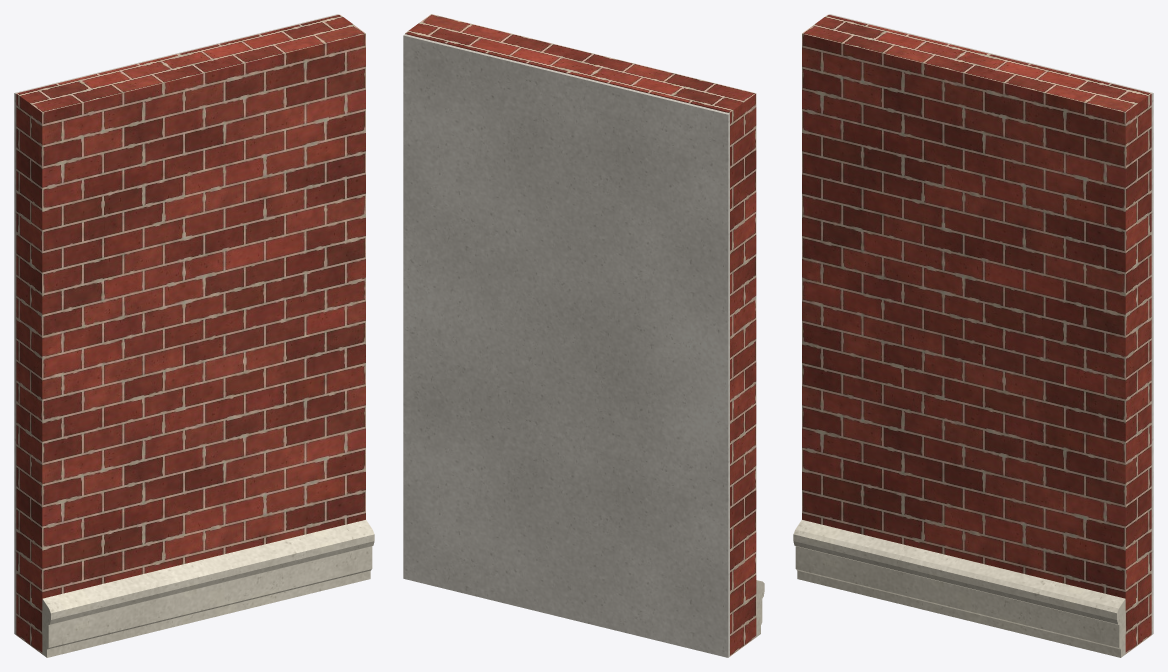
Rendered from o_u1_plain.glb.
The picture shows the model from 3 angles, left to right: view 1: azimuth 30°, elevation 25°; view 2: azimuth 150°, elevation 25°; view 3: azimuth 330°, elevation 25°; orthographic projection.
Visible parts, largest first — view 1: o_u1_plain_brick, o_u1_plain_trim, o_u1_plain_plaster; view 2: o_u1_plain_plaster, o_u1_plain_brick; view 3: o_u1_plain_brick, o_u1_plain_trim, o_u1_plain_plaster.
Boxes of the visible parts, x1,y1,x2,y2 form: o_u1_plain_brick: (16, 14, 365, 653); o_u1_plain_trim: (42, 520, 374, 657); o_u1_plain_plaster: (14, 14, 338, 634); o_u1_plain_plaster: (403, 34, 729, 657); o_u1_plain_brick: (405, 14, 756, 656); o_u1_plain_brick: (802, 14, 1151, 653); o_u1_plain_trim: (793, 520, 1125, 657); o_u1_plain_plaster: (829, 14, 1153, 634).
Bounding box in the file's own units: 2 × 3.2 × 0.39.
Materials: 3 (3 with a texture image).
